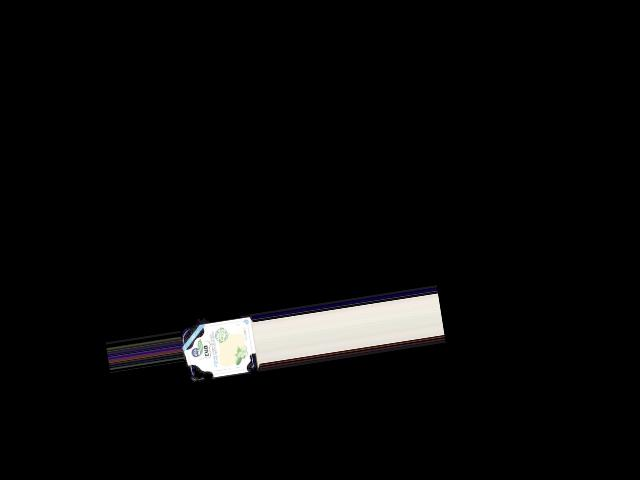cheese: (180, 313, 261, 384)
